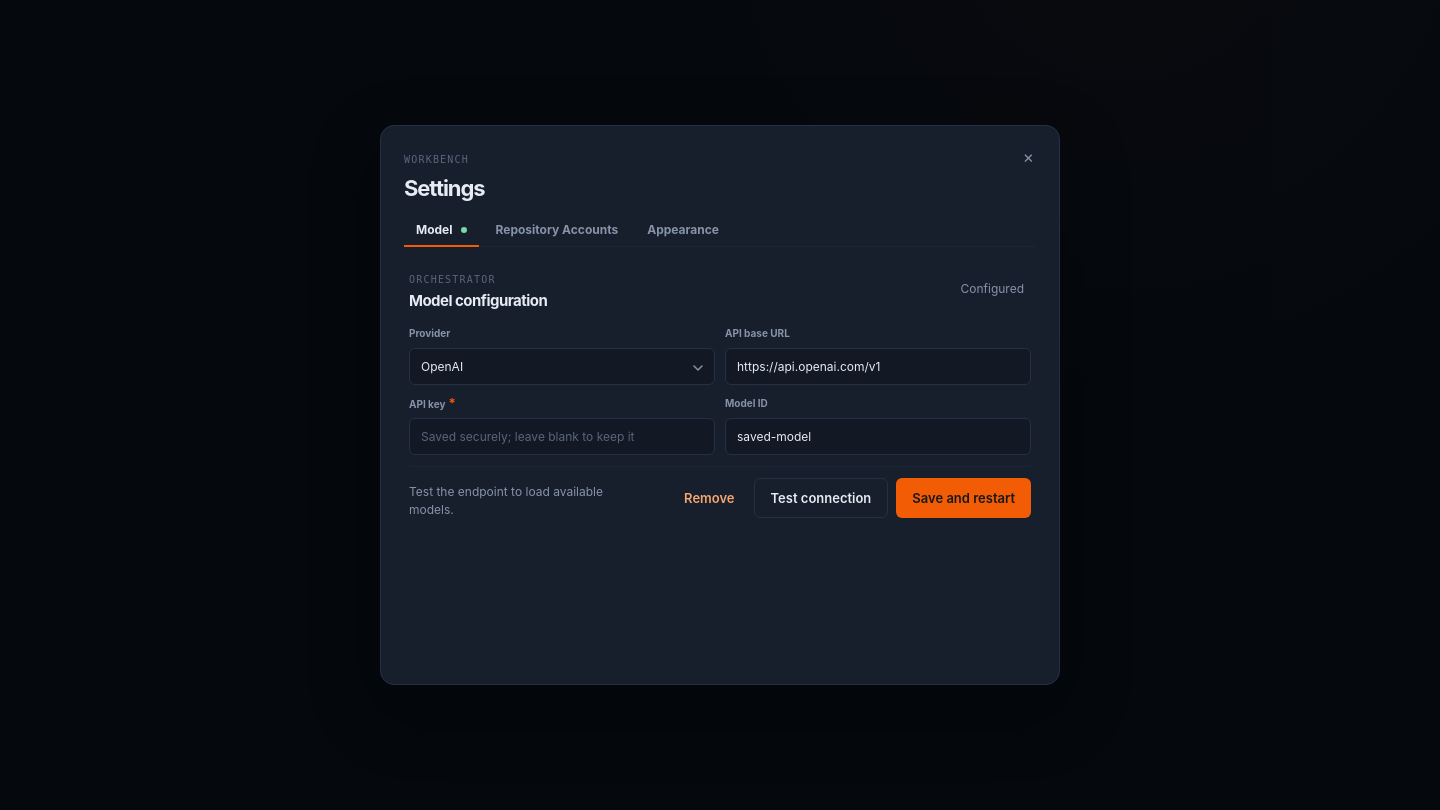
Scenario: model discovery settings › invalidates the model list after editing API key
Expected: the field showing "saved-model" is shown, [725,418,1031,455]
Click the button "Test connection".
click(821, 498)  # box [754,478,888,518]
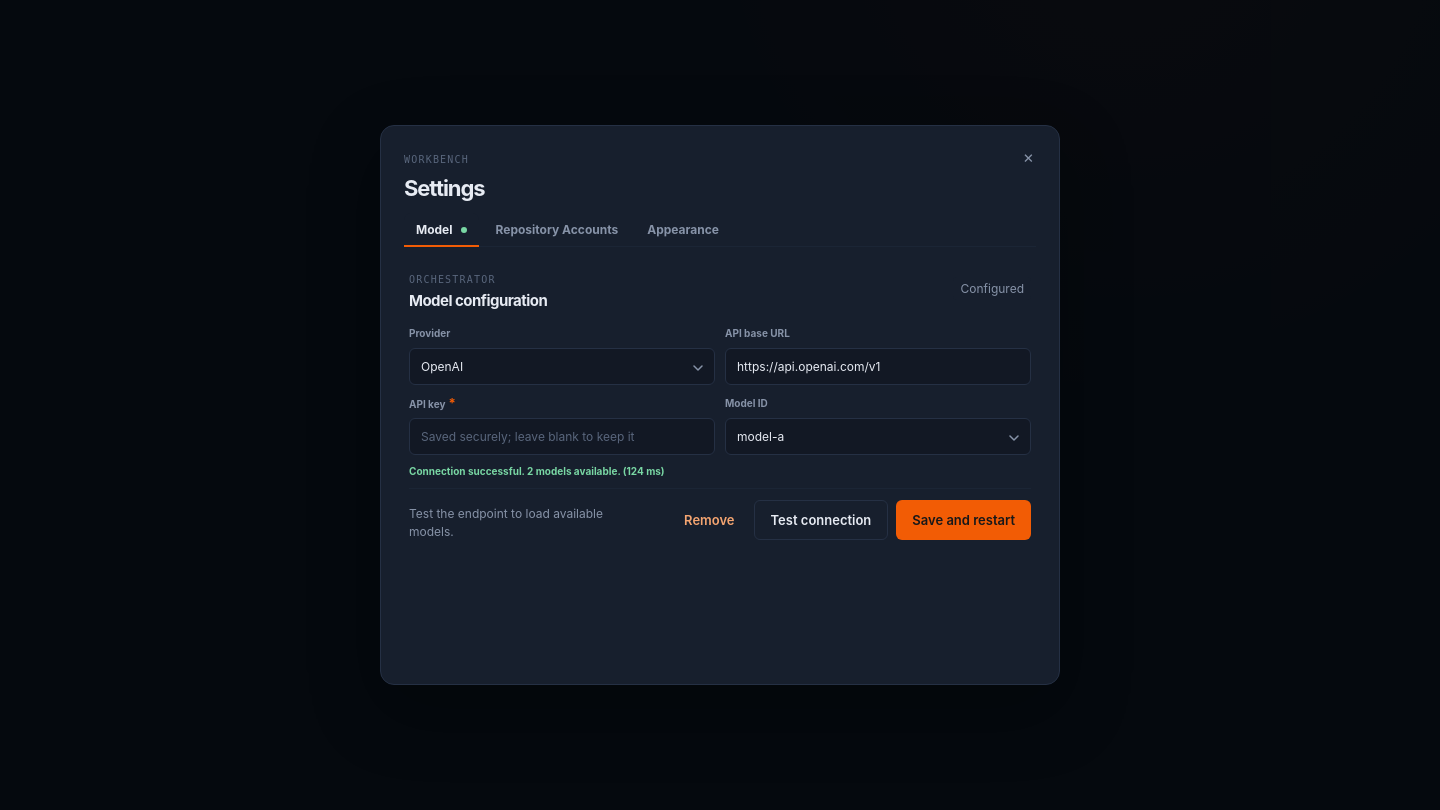
Result: the dropdown named "Model ID" is shown at [725,418,1031,455]
Type "changed" into the password field labelled "API key *".
click(562, 436); type("changed")  # box [409,418,715,455]
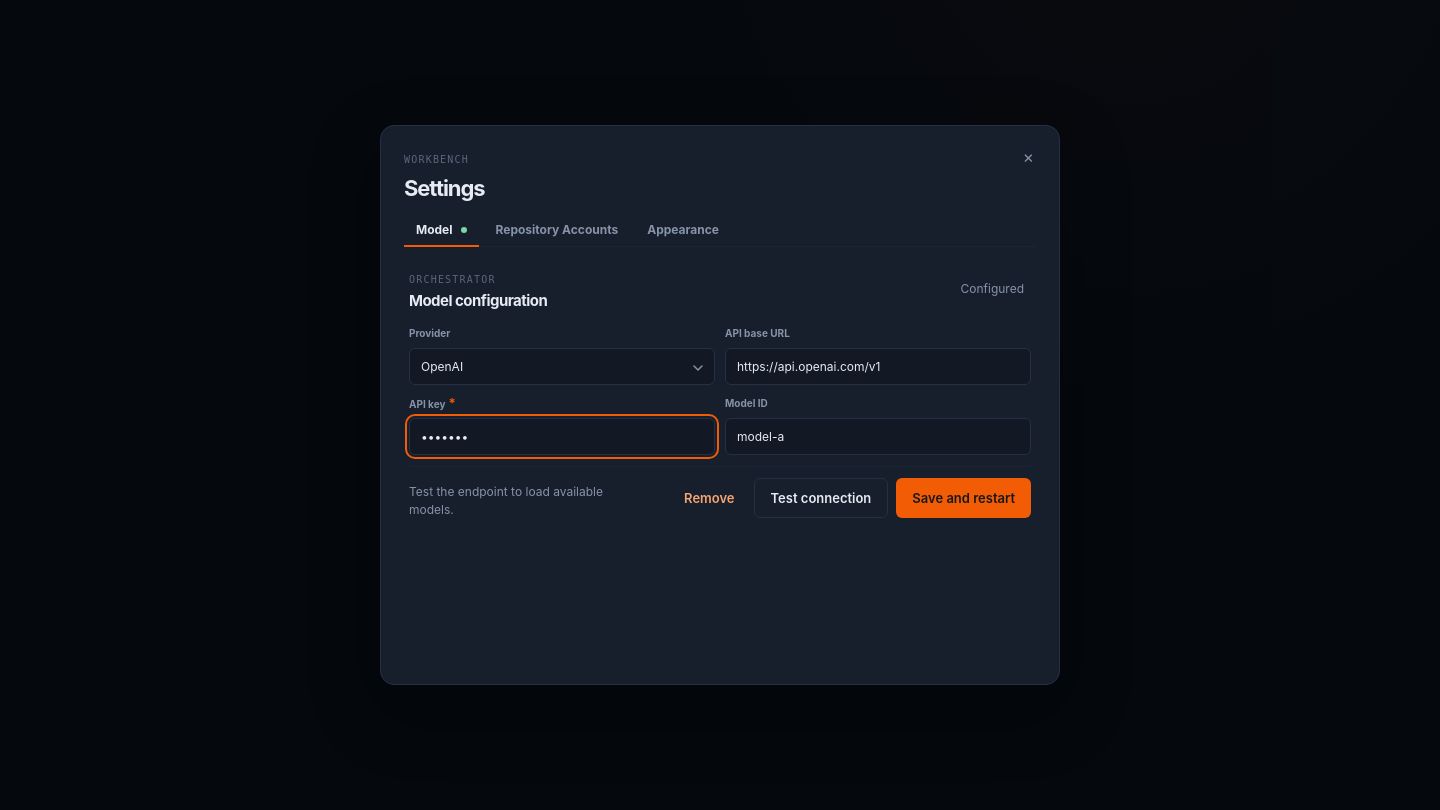
Result: the text "Connection successful" is gone
